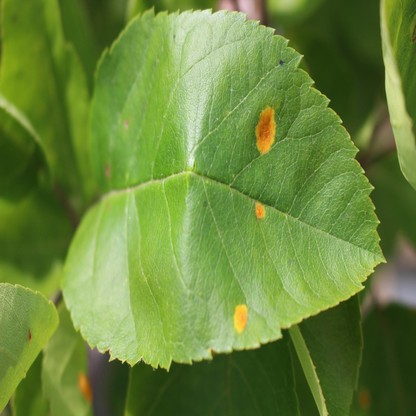rust: (254, 106, 275, 155), (77, 370, 93, 404), (233, 304, 247, 334), (358, 384, 370, 413), (254, 199, 265, 219)
